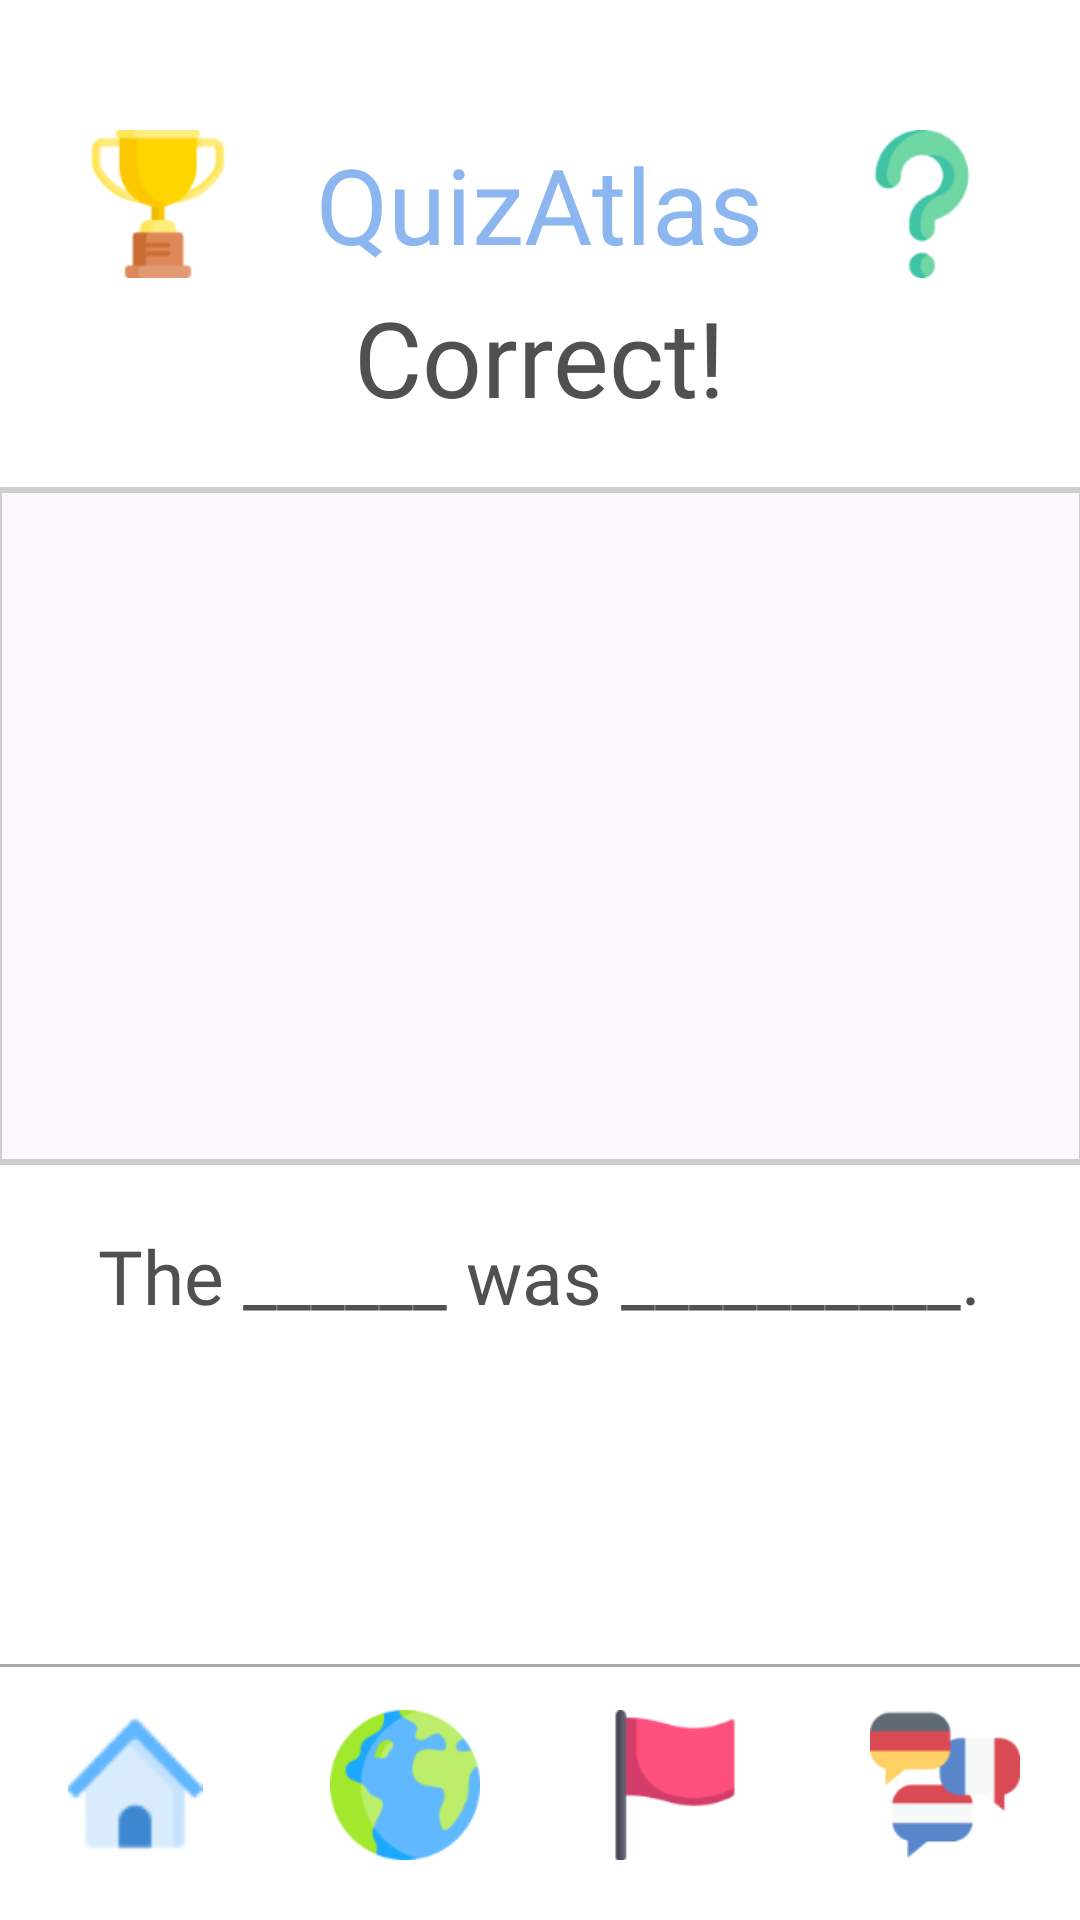

Icon click points for this 1080 x 1920 phone screenshot, format [x,y]:
earth: [405,1785]
flag: [675,1785]
home: [135,1783]
language: [945,1784]
questionmark: [922,204]
trophy: [158,204]
